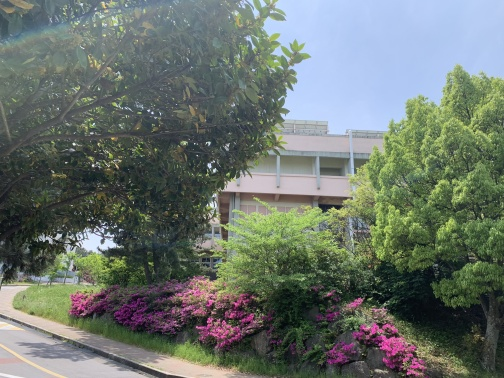College Of Education: (216, 106, 392, 253)
